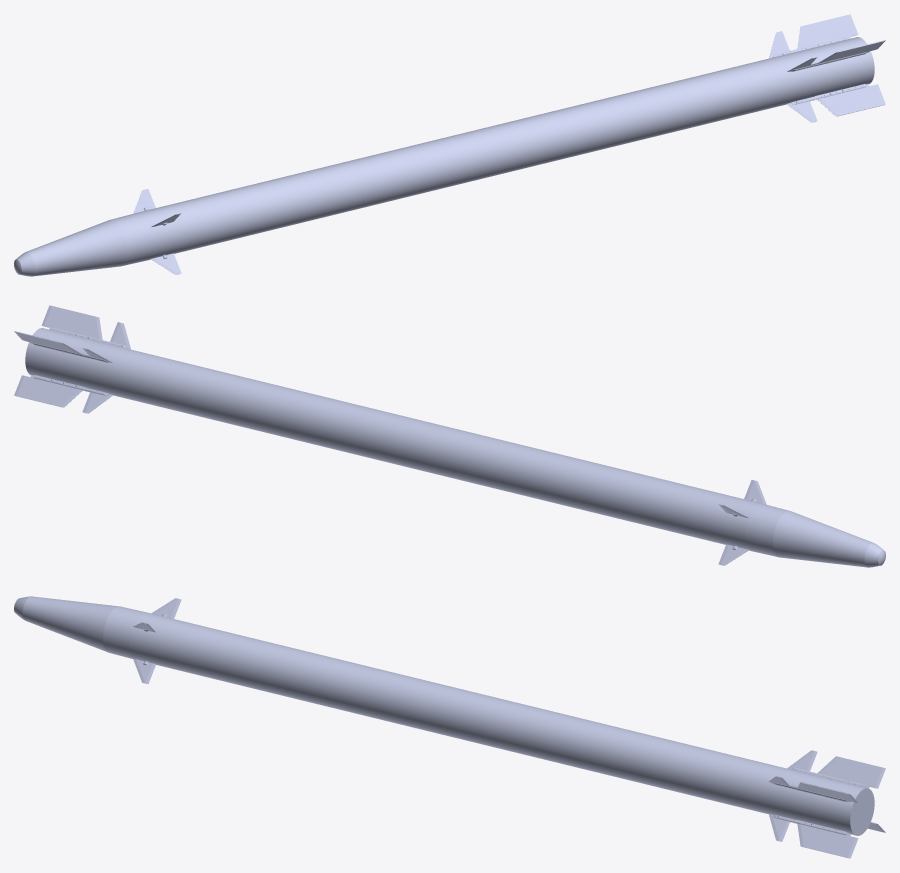
The picture shows the model from 3 angles, top to bottom: view 1: azimuth 30°, elevation 25°; view 2: azimuth 150°, elevation 25°; view 3: azimuth 330°, elevation 25°; orthographic projection.
Visible parts, largest first — view 1: BA; view 2: BA; view 3: BA.
Part boxes in pixels (x1,y1,x2,y2): BA: [14, 14, 885, 276]; BA: [14, 305, 885, 567]; BA: [14, 596, 885, 858].
Bounding box in the file's own units: 5.51 × 0.3999 × 0.3999.
